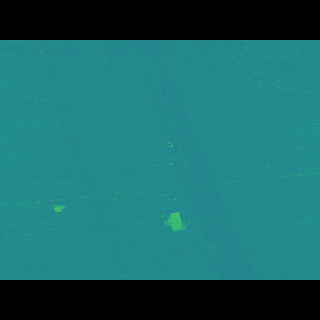Loch: (117, 70, 263, 250), (24, 68, 133, 245), (153, 194, 190, 216), (49, 189, 66, 202)
